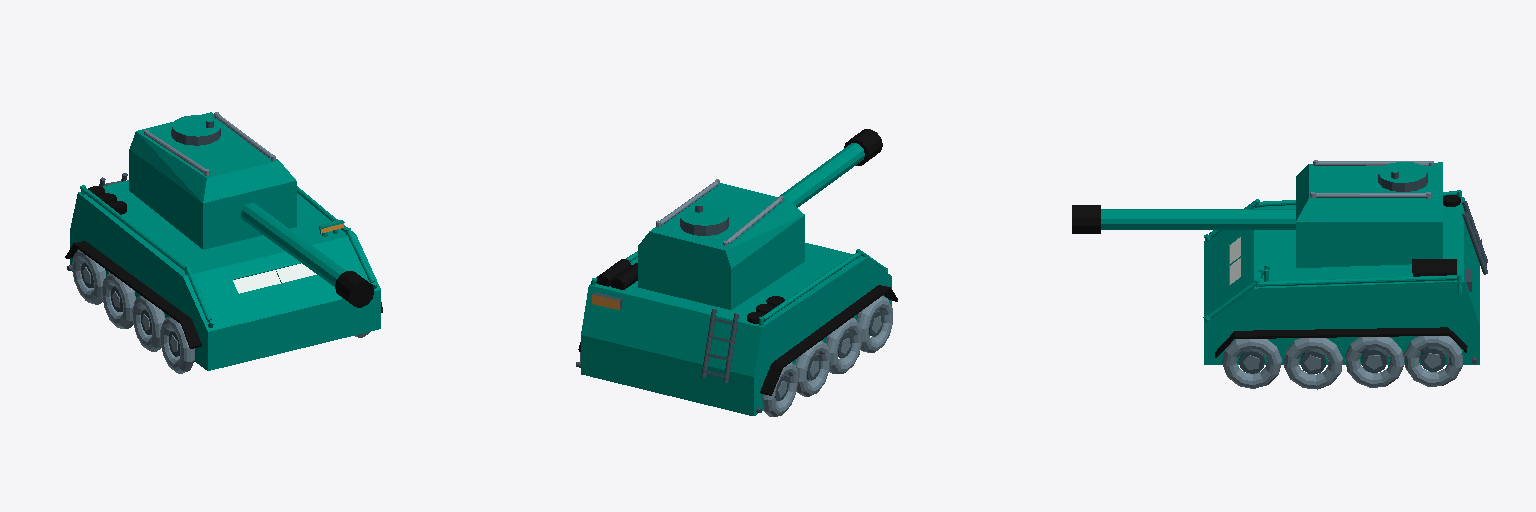
3 views of the same model, side by side, from view 1: azimuth 30°, elevation 25°; view 2: azimuth 150°, elevation 25°; view 3: azimuth 270°, elevation 25° (orthographic).
Visible parts, largest first — view 1: group[number redacted], group[number redacted], group[number redacted], group[number redacted], group[number redacted], group[number redacted], group[number redacted], group[number redacted], group[number redacted], group[number redacted], group[number redacted], group[number redacted] (+1 smaller); view 2: group[number redacted], group[number redacted], group[number redacted], group[number redacted], group[number redacted], group[number redacted], group[number redacted], group[number redacted], group[number redacted], group[number redacted], group[number redacted]; view 3: group[number redacted], group[number redacted], group[number redacted], group[number redacted], group[number redacted], group[number redacted], group[number redacted], group[number redacted], group[number redacted], group[number redacted], group[number redacted], group[number redacted].
Boxes of the visible parts, x1,y1,x2,y2 form: group[number redacted]: [70, 180, 380, 370]; group[number redacted]: [129, 112, 296, 249]; group[number redacted]: [241, 203, 345, 286]; group[number redacted]: [65, 241, 201, 348]; group[number redacted]: [102, 272, 135, 328]; group[number redacted]: [160, 317, 194, 373]; group[number redacted]: [132, 295, 165, 351]; group[number redacted]: [72, 249, 105, 304]; group[number redacted]: [171, 115, 220, 145]; group[number redacted]: [233, 263, 316, 293]; group[number redacted]: [80, 185, 213, 327]; group[number redacted]: [335, 271, 373, 307]; group[number redacted]: [581, 243, 891, 415]; group[number redacted]: [638, 183, 804, 309]; group[number redacted]: [760, 285, 897, 395]; group[number redacted]: [780, 143, 864, 207]; group[number redacted]: [856, 296, 892, 352]; group[number redacted]: [826, 318, 862, 373]; group[number redacted]: [795, 341, 830, 396]; group[number redacted]: [680, 206, 728, 235]; group[number redacted]: [762, 362, 797, 416]; group[number redacted]: [759, 249, 887, 325]; group[number redacted]: [844, 129, 882, 165]; group[number redacted]: [1204, 197, 1479, 364]; group[number redacted]: [1296, 162, 1442, 267]; group[number redacted]: [1101, 209, 1295, 229]; group[number redacted]: [1345, 337, 1404, 387]; group[number redacted]: [1404, 336, 1462, 386]; group[number redacted]: [1284, 338, 1342, 389]; group[number redacted]: [1222, 339, 1281, 388]; group[number redacted]: [1215, 327, 1467, 357]; group[number redacted]: [1203, 274, 1462, 321]; group[number redacted]: [1378, 162, 1427, 191]; group[number redacted]: [1072, 205, 1100, 233]; group[number redacted]: [1316, 193, 1426, 197].
Size of the model in its own units: 0.8733 by 0.7595 by 1.58.